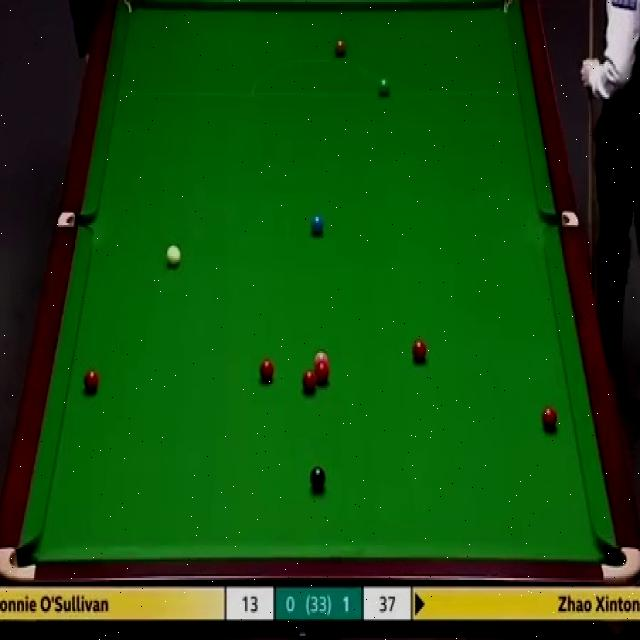black-ball: (308, 465, 327, 491)
blue-ball: (310, 216, 322, 237)
brown-ball: (332, 38, 348, 58)
green-ball: (376, 75, 391, 97)
pink-ball: (313, 351, 326, 371)
red-ball: (541, 405, 557, 432), (82, 371, 99, 394), (411, 340, 427, 362), (303, 370, 318, 393), (315, 366, 329, 389), (259, 361, 274, 382)
white-ball: (165, 246, 182, 267)
